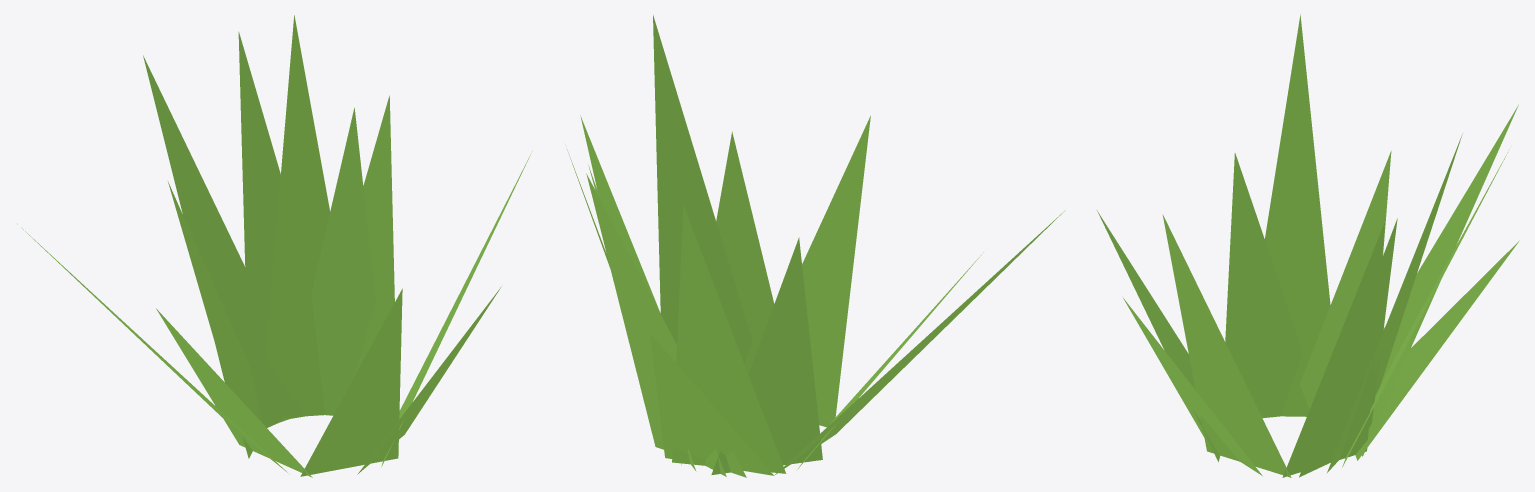
The picture shows the model from 3 angles, left to right: view 1: azimuth 30°, elevation 25°; view 2: azimuth 150°, elevation 25°; view 3: azimuth 270°, elevation 25°; orthographic projection. The views are drawn at different scales.
Parts seen in each view (by area): view 1: grass-tuft-b; view 2: grass-tuft-b; view 3: grass-tuft-b.
Boxes of the visible parts, box(x1,y1,x2,y2) form: grass-tuft-b: box(17, 15, 532, 477); grass-tuft-b: box(567, 15, 1065, 477); grass-tuft-b: box(1097, 14, 1519, 477).
Size of the model in its own units: 0.4837 by 0.3573 by 0.4027.
